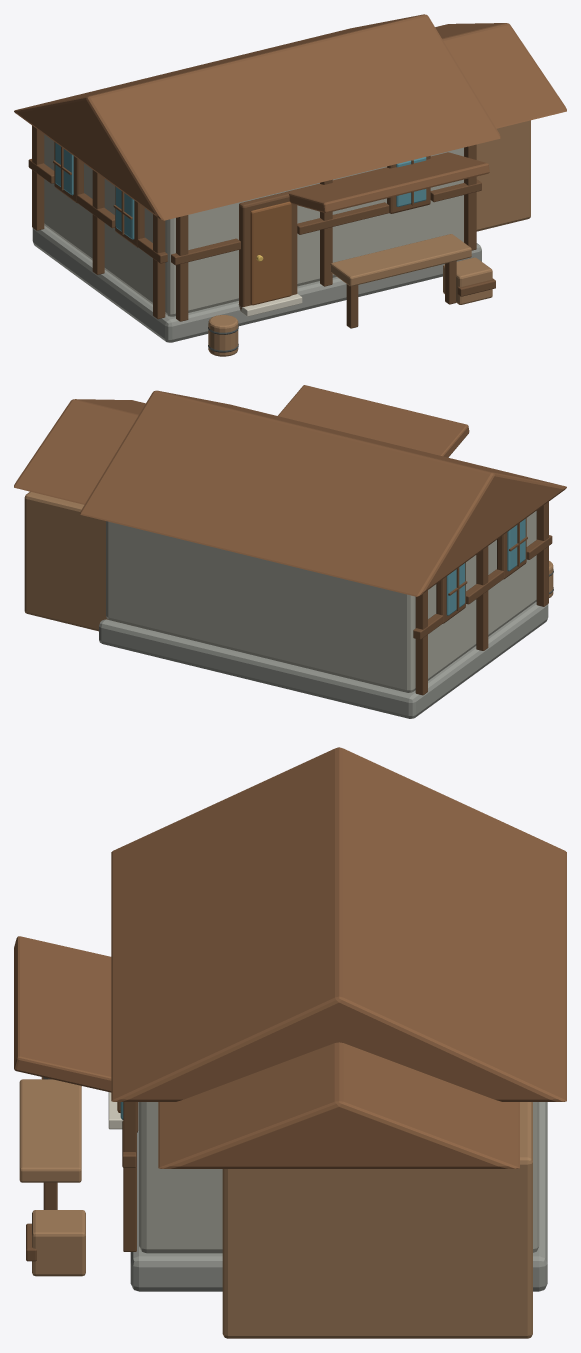
The model's file is temperate-artisan-1.glb.
3 renders of one model, top to bottom at view 1: azimuth 30°, elevation 25°; view 2: azimuth 150°, elevation 25°; view 3: azimuth 270°, elevation 25°, orthographic. The views are drawn at different scales.
Visible parts, largest first — view 1: Wood shingles, Fieldstone, Dark beams, Aged oak, Foundation stone, Door oak, Blue glass, Cut limestone; view 2: Wood shingles, Fieldstone, Foundation stone, Aged oak, Dark beams, Blue glass; view 3: Wood shingles, Aged oak, Fieldstone, Foundation stone, Dark beams.
Part boxes in pixels (x1=…): Wood shingles: x1=14, y1=14, x2=566, y2=220; Fieldstone: x1=44, y1=134, x2=463, y2=316; Dark beams: x1=28, y1=125, x2=495, y2=328; Aged oak: x1=208, y1=120, x2=530, y2=356; Foundation stone: x1=32, y1=225, x2=481, y2=342; Door oak: x1=250, y1=201, x2=291, y2=305; Blue glass: x1=55, y1=142, x2=426, y2=239; Cut limestone: x1=238, y1=294, x2=302, y2=316; Wood shingles: x1=14, y1=385, x2=566, y2=596; Fieldstone: x1=106, y1=511, x2=536, y2=692; Foundation stone: x1=99, y1=602, x2=548, y2=718; Aged oak: x1=24, y1=491, x2=553, y2=631; Dark beams: x1=413, y1=502, x2=552, y2=695; Blue glass: x1=446, y1=519, x2=525, y2=615; Wood shingles: x1=14, y1=747, x2=566, y2=1168; Aged oak: x1=19, y1=1077, x2=532, y2=1338; Fieldstone: x1=139, y1=1102, x2=539, y2=1253; Foundation stone: x1=130, y1=1102, x2=547, y2=1291; Dark beams: x1=26, y1=1102, x2=138, y2=1261.
Bounding box in the file's own units: 5.38 × 2.44 × 4.01.
